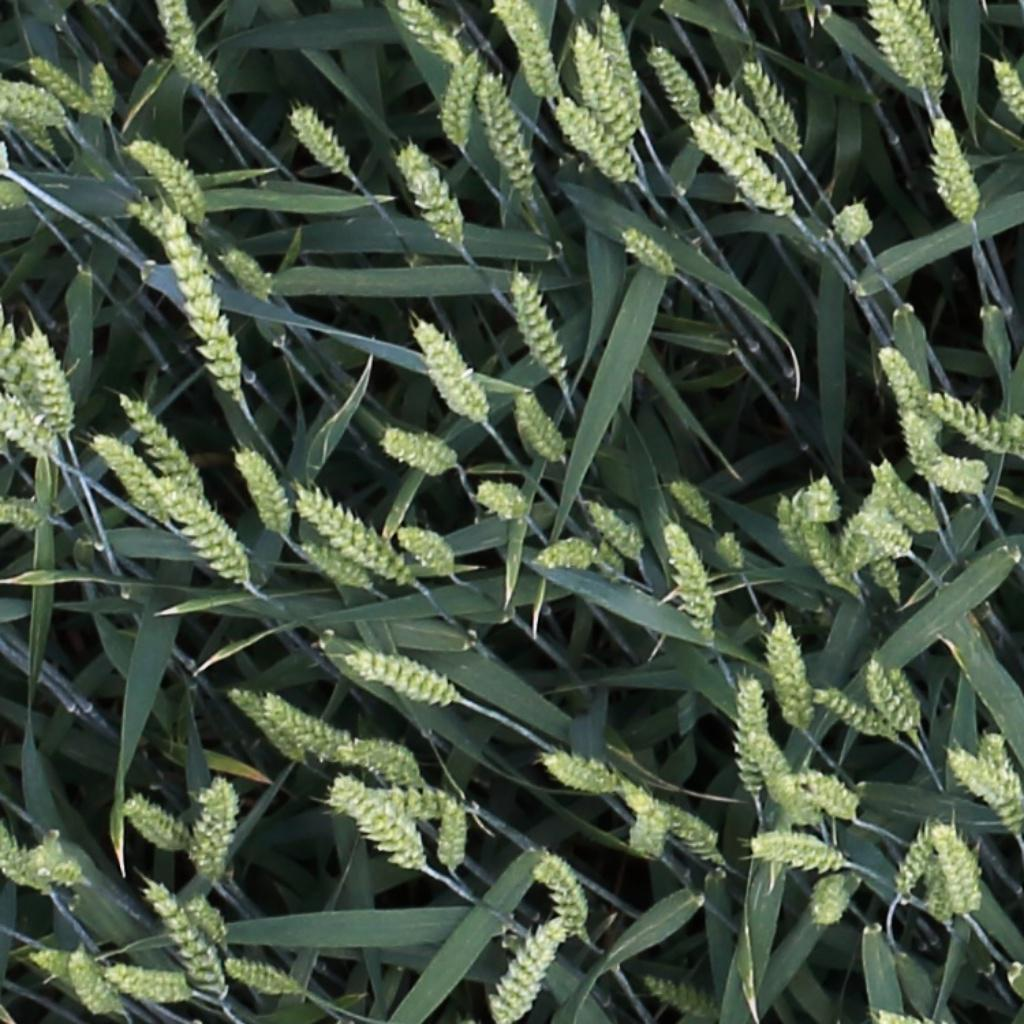0-0: (159, 204, 241, 398), (136, 875, 226, 1003), (288, 486, 406, 580), (150, 477, 249, 587), (690, 109, 791, 212), (111, 390, 202, 499), (329, 779, 428, 874), (569, 19, 642, 134), (487, 916, 565, 1022), (408, 316, 484, 423), (475, 68, 535, 200), (124, 133, 206, 226), (88, 430, 167, 525), (551, 92, 634, 181), (626, 782, 720, 860), (505, 267, 567, 385), (943, 746, 1024, 835), (394, 139, 462, 244), (735, 54, 804, 157), (660, 518, 715, 647), (798, 480, 857, 599), (225, 686, 308, 767), (494, 0, 558, 99), (875, 339, 940, 436), (928, 391, 1024, 454), (346, 652, 456, 704), (229, 442, 289, 537), (866, 1, 929, 91), (868, 457, 939, 536), (325, 727, 420, 786), (285, 99, 355, 179), (845, 506, 905, 598), (765, 617, 811, 734), (895, 1, 948, 101), (259, 697, 348, 756), (931, 111, 977, 225), (531, 851, 587, 940), (644, 39, 701, 126), (708, 81, 774, 155), (24, 329, 70, 435), (597, 6, 643, 112), (776, 774, 865, 827), (393, 2, 462, 70), (195, 775, 237, 885), (931, 824, 980, 918), (510, 386, 566, 466), (120, 799, 193, 859), (861, 656, 913, 740), (441, 46, 480, 155), (580, 496, 644, 562), (62, 946, 120, 1018), (890, 823, 942, 903), (745, 832, 845, 871), (812, 689, 888, 740), (27, 55, 92, 114), (0, 305, 37, 408), (99, 962, 187, 1004), (978, 730, 1021, 815), (735, 674, 763, 804), (0, 394, 57, 457), (297, 540, 367, 591), (0, 80, 66, 133), (540, 752, 618, 795), (647, 975, 723, 1019), (987, 54, 1024, 143), (774, 491, 816, 569), (0, 825, 46, 896), (379, 428, 453, 472), (163, 39, 219, 96), (883, 665, 925, 740), (898, 401, 936, 481), (615, 225, 675, 275), (219, 959, 300, 996), (918, 456, 994, 495), (663, 475, 715, 531), (920, 850, 955, 932), (626, 797, 666, 868), (217, 247, 270, 300), (180, 894, 229, 951), (393, 528, 454, 573), (154, 0, 195, 66), (438, 795, 468, 881), (537, 531, 595, 575), (84, 54, 119, 123), (123, 204, 180, 244), (812, 871, 846, 929), (472, 483, 525, 520), (836, 193, 868, 251), (712, 527, 749, 577), (1000, 415, 1024, 454)
